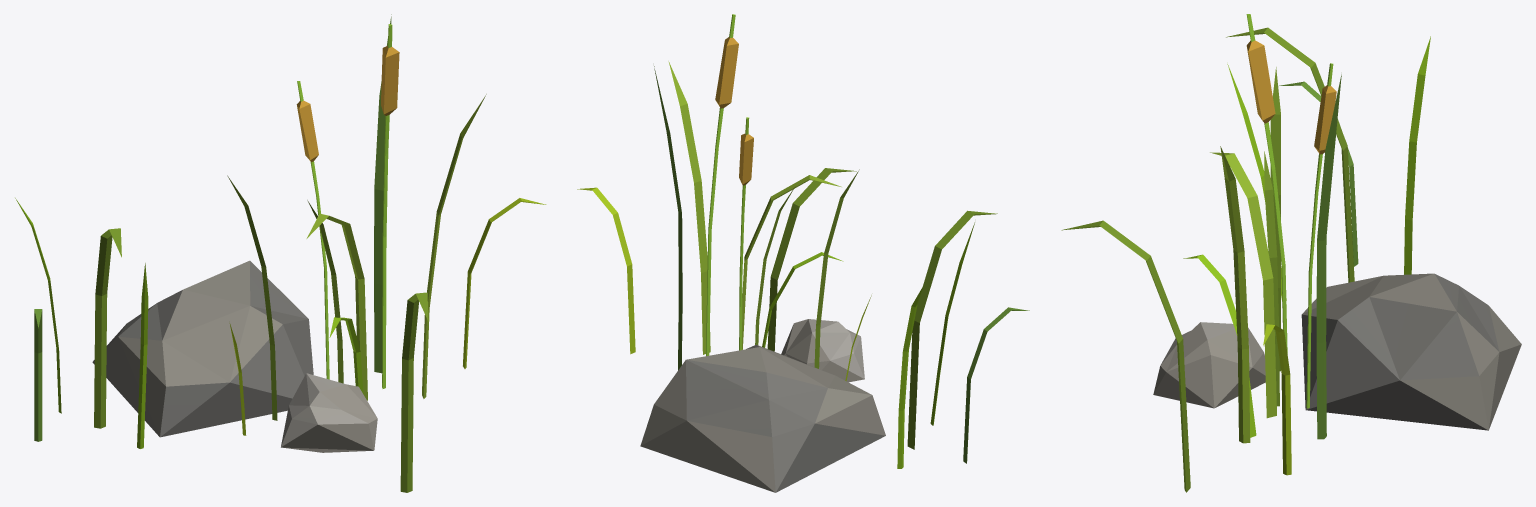
Rendered from pond_plant1.FBX.
The picture shows the model from 3 angles, left to right: view 1: azimuth 30°, elevation 25°; view 2: azimuth 150°, elevation 25°; view 3: azimuth 270°, elevation 25°; orthographic projection. The views are drawn at different scales.
Visible parts, largest first — view 1: Object006; view 2: Object006; view 3: Object006.
Boxes of the visible parts, x1,y1,x2,y2 form: Object006: (15,14,546,492); Object006: (577,14,1029,492); Object006: (1061,14,1521,492).
Bounding box in the file's own units: 13.79 × 11.63 × 10.1.
Materials: 1 (1 with a texture image).
